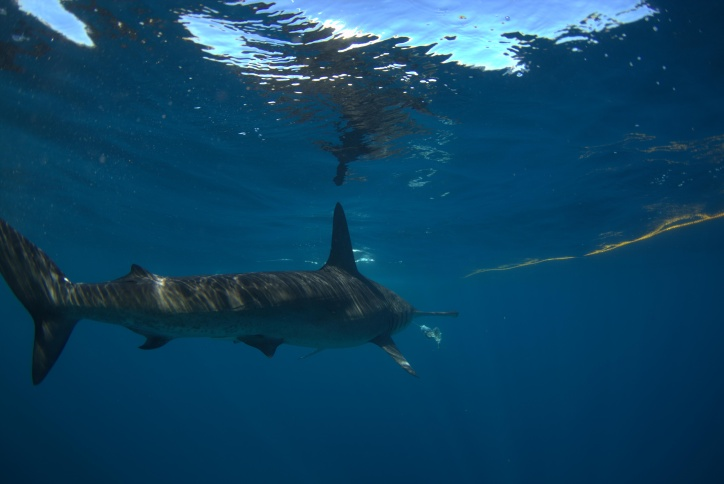Hammer: (1, 171, 488, 403)
